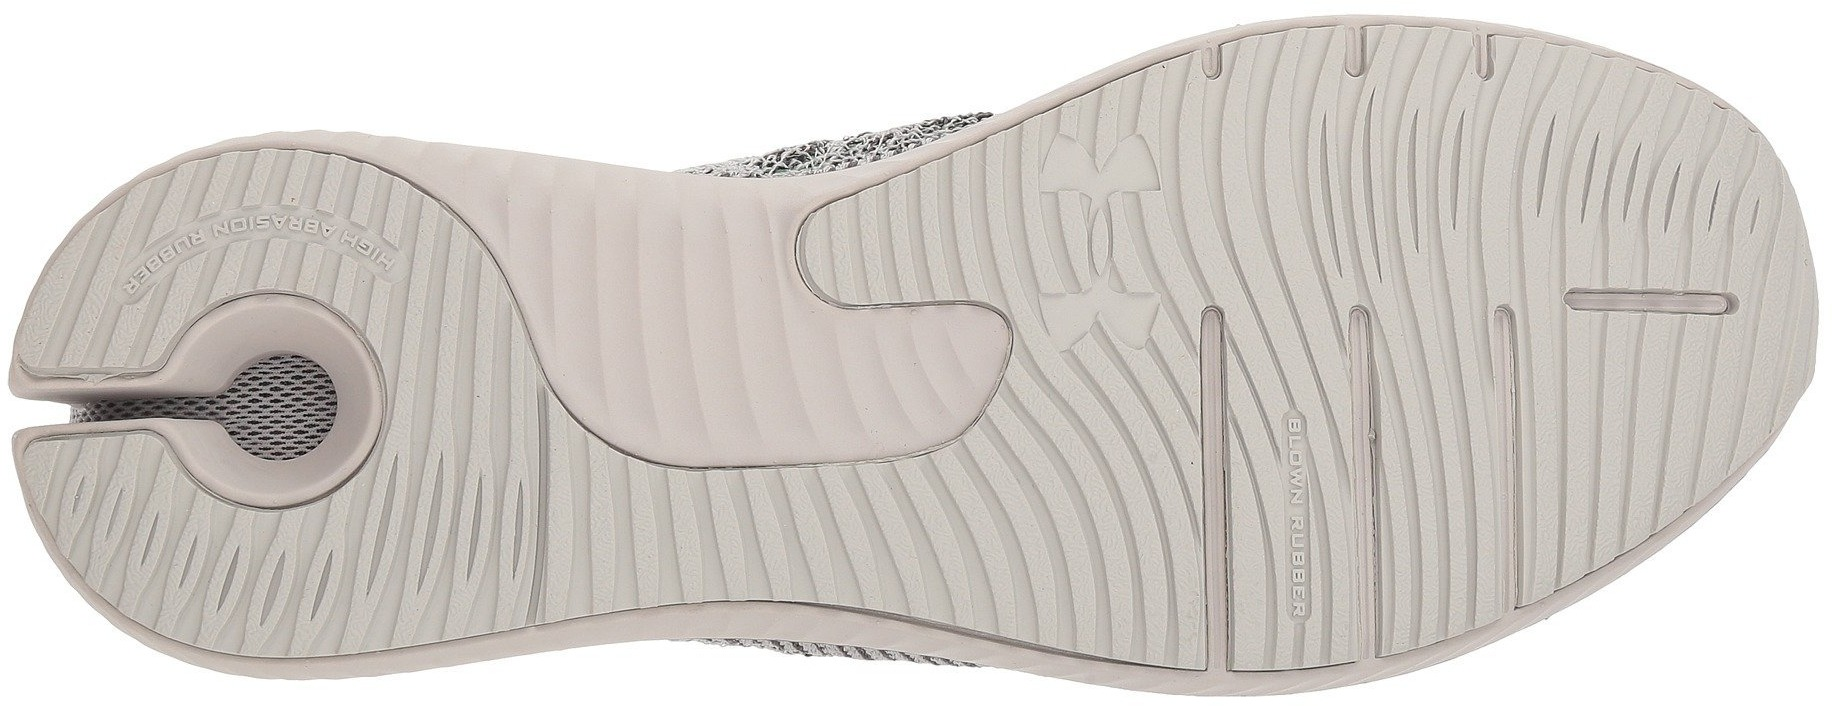circle: (12, 141, 546, 664), (157, 302, 374, 496)
line: (1216, 25, 1372, 660), (1363, 22, 1515, 663)
quad: (1283, 416, 1313, 623), (1568, 288, 1736, 312)
